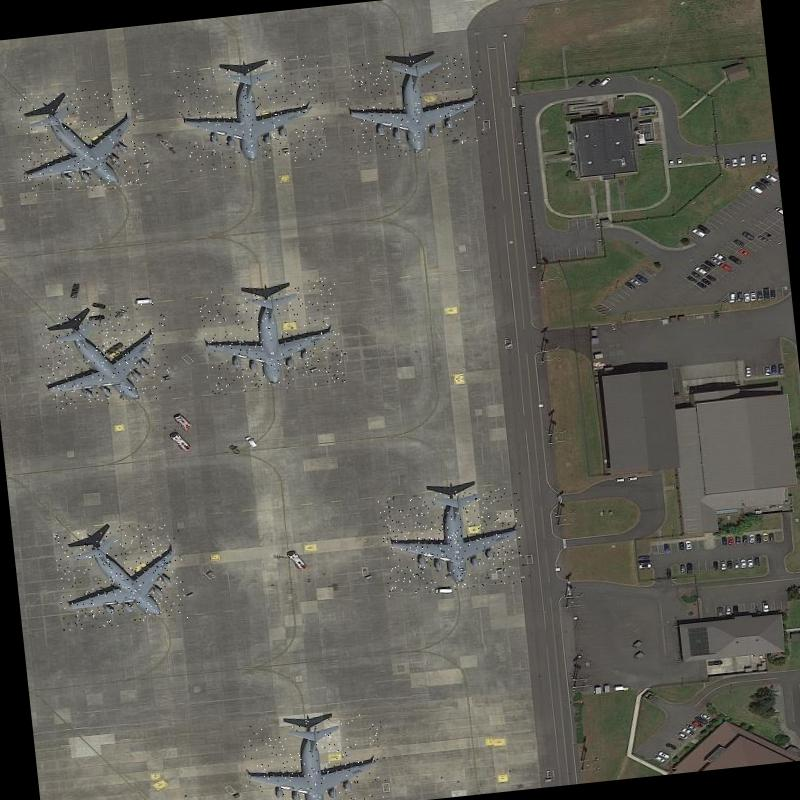A3: (172, 54, 328, 174), (196, 276, 344, 396), (377, 484, 528, 596), (342, 50, 489, 161), (13, 82, 150, 198), (34, 301, 172, 412), (53, 520, 188, 632), (239, 711, 389, 800)
